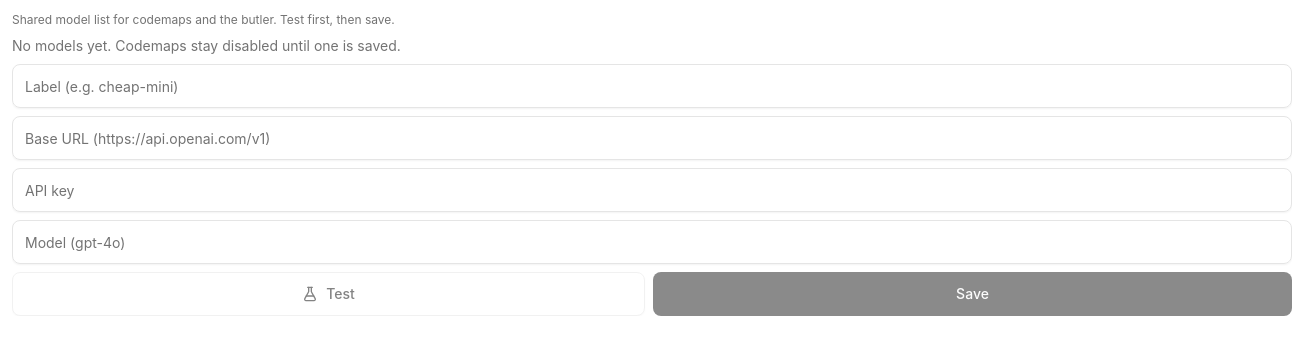
it: AICard › keeps Test disabled until label and a valid URL are present
This screenshot has width=1304, height=357.
Expected: the text "No models yet. Codemaps stay disabled until one is saved." is shown, [12,37,401,54]
Everything but the label: still disabled, hint names it.
Type "https://x" into the field with test id "ai-base-url" at point(652, 138), box [12,116,1292,160]
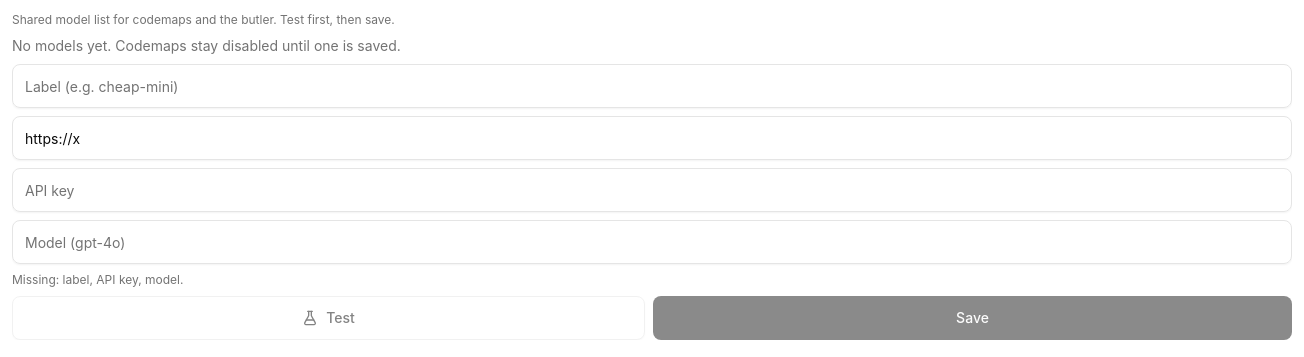
Type "k" into the password field with test id "ai-api-key" at point(652, 190), box [12,168,1292,212]
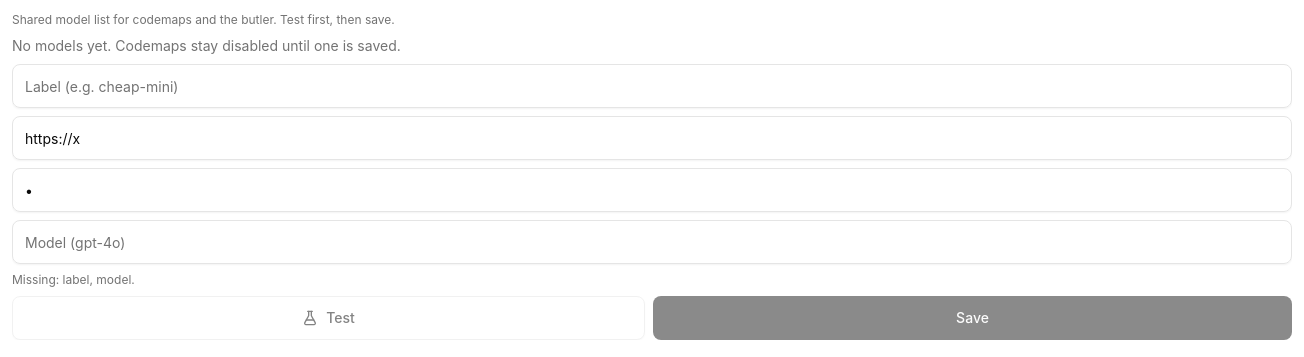
Type "m" into the field with test id "ai-model" at point(652, 242), box [12,220,1292,264]
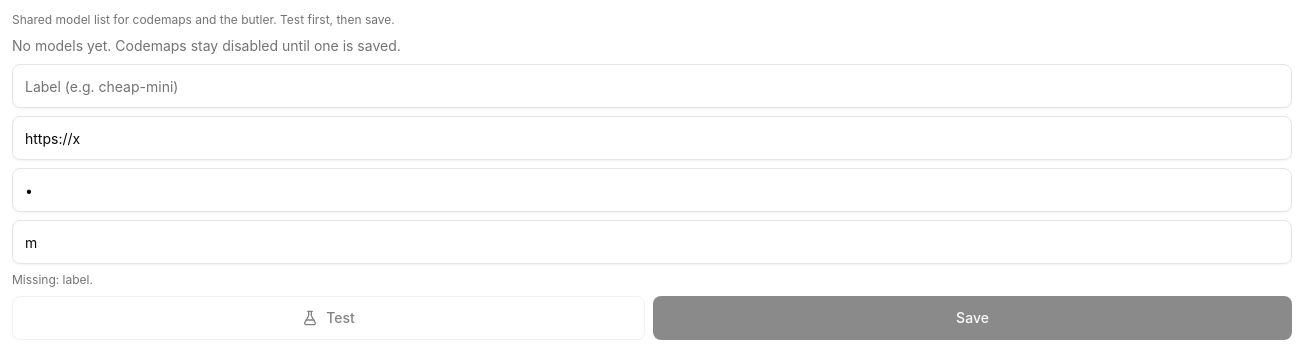
Expected: the button with test id "ai-test" is disabled, [12,296,645,340]
Result: the text with test id "ai-hint" shows "label" at [63,272,90,287]
Label added, URL broken: still disabled, hint names the URL.
Type "mini" into the field with test id "ai-label" at point(652, 86), box [12,64,1292,108]
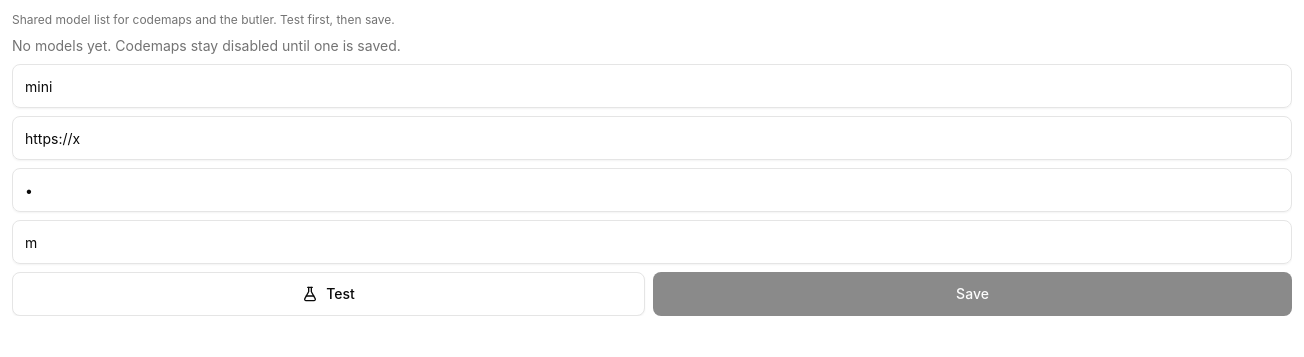
Replace the text in the field with test id "ai-base-url" with "not a url" at point(652, 138), box [12,116,1292,160]
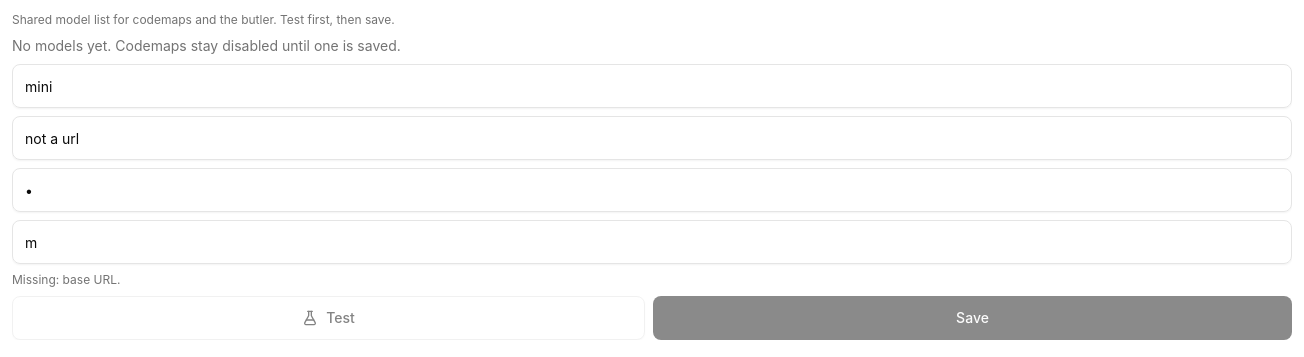
Result: the button with test id "ai-test" is disabled at [12,296,645,340]
Result: the text with test id "ai-hint" shows "base URL" at [63,272,117,287]
Valid URL: lights up.
Replace the text in the field with test id "ai-base-url" with "http://localhost:11434/v1" at point(652, 138), box [12,116,1292,160]
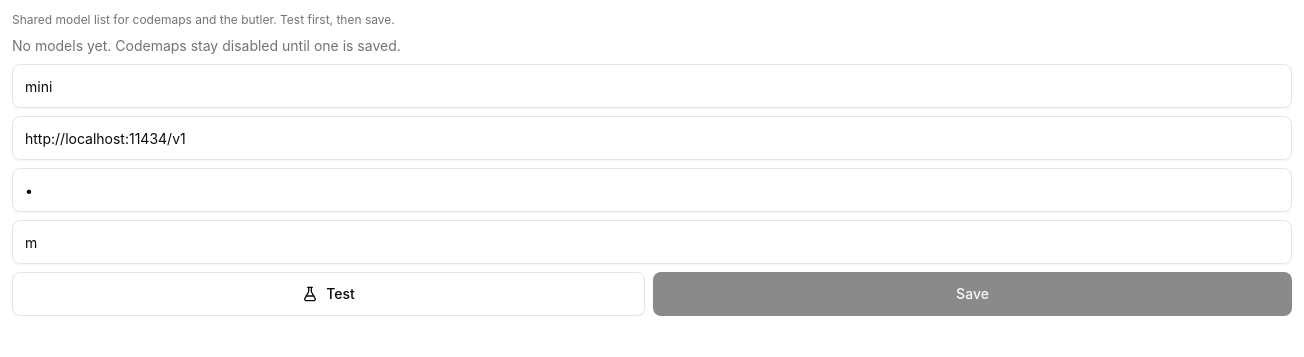
Result: the button with test id "ai-test" is enabled at [12,272,645,316]
